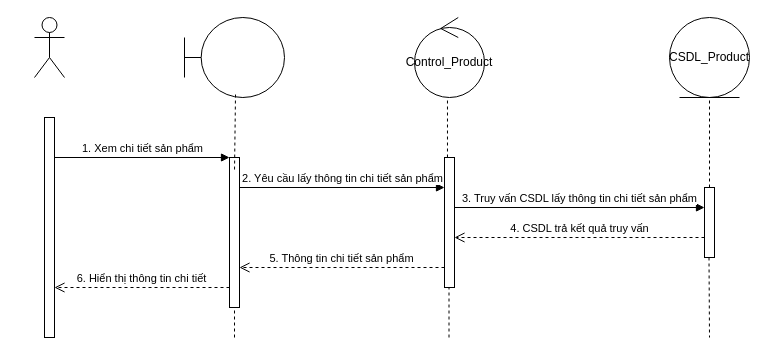
This 767x356 diagram has some shape labels left out. Each missing label, with the centre of its shape:
Khách hàng: (x=49, y=47)
Thông tin chi tiết sản phẩm: (x=234, y=57)
